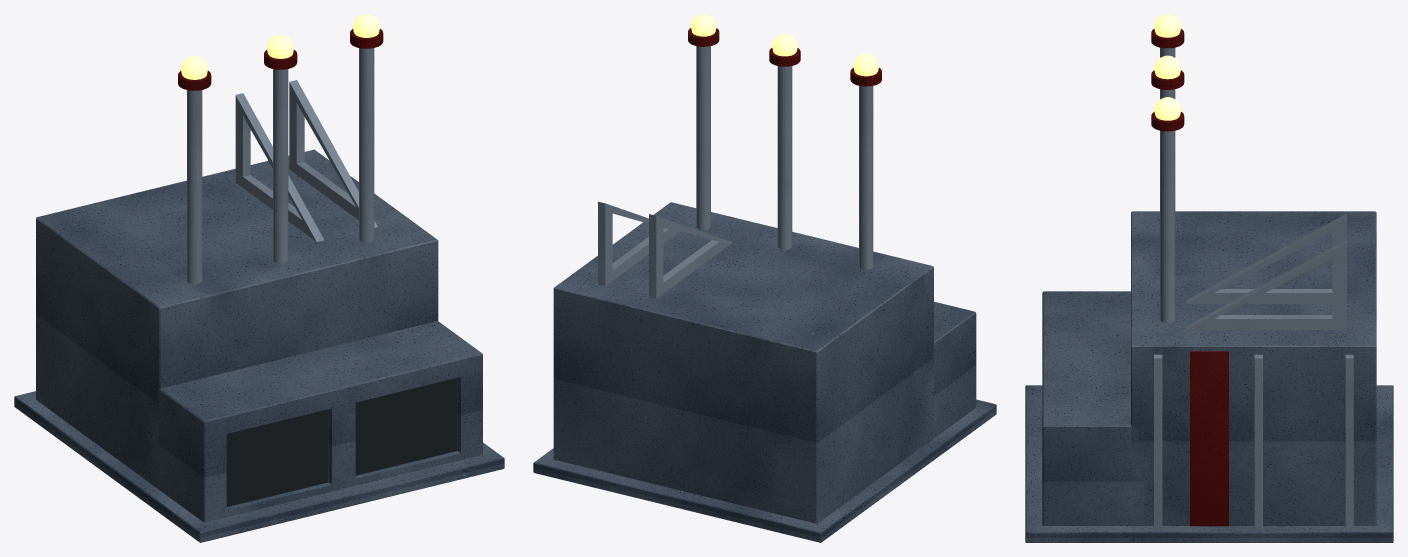
3 renders of one model, left to right at view 1: azimuth 30°, elevation 25°; view 2: azimuth 150°, elevation 25°; view 3: azimuth 270°, elevation 25°, orthographic. The views are drawn at different scales.
Visible parts, largest first — view 1: Screening Pods upper cast body, Screening Pods lower projecting front, Screening Pods eight supported steel parts, Screening Pods two blind front backings, Screening Pods grounded low foot, Screening Pods three steady opaque emitter cores, Screening Pods source red stripe and three collars; view 2: Screening Pods upper cast body, Screening Pods eight supported steel parts, Screening Pods grounded low foot, Screening Pods lower projecting front, Screening Pods three steady opaque emitter cores, Screening Pods source red stripe and three collars; view 3: Screening Pods upper cast body, Screening Pods lower projecting front, Screening Pods eight supported steel parts, Screening Pods grounded low foot, Screening Pods source red stripe and three collars, Screening Pods three steady opaque emitter cores.
Part boxes in pixels (left/top/right/bottom): Screening Pods upper cast body: left=36, top=149, right=438, bottom=489; Screening Pods lower projecting front: left=159, top=321, right=482, bottom=522; Screening Pods eight supported steel parts: left=187, top=48, right=377, bottom=284; Screening Pods two blind front backings: left=226, top=377, right=457, bottom=506; Screening Pods grounded low foot: left=14, top=391, right=504, bottom=542; Screening Pods three steady opaque emitter cores: left=181, top=14, right=379, bottom=79; Screening Pods source red stripe and three collars: left=178, top=29, right=383, bottom=90; Screening Pods upper cast body: left=553, top=202, right=933, bottom=523; Screening Pods eight supported steel parts: left=598, top=46, right=873, bottom=298; Screening Pods grounded low foot: left=533, top=399, right=996, bottom=542; Screening Pods lower projecting front: left=930, top=301, right=976, bottom=439; Screening Pods three steady opaque emitter cores: left=691, top=14, right=878, bottom=76; Screening Pods source red stripe and three collars: left=688, top=28, right=881, bottom=86; Screening Pods upper cast body: left=1131, top=211, right=1376, bottom=525; Screening Pods lower projecting front: left=1042, top=291, right=1144, bottom=525; Screening Pods eight supported steel parts: left=1153, top=47, right=1353, bottom=529; Screening Pods grounded low foot: left=1025, top=385, right=1393, bottom=542; Screening Pods source red stripe and three collars: left=1151, top=28, right=1228, bottom=526; Screening Pods three steady opaque emitter cores: left=1154, top=14, right=1181, bottom=120.
Size of the model in its own units: 1.42 by 1.85 by 1.5.
5 materials, 3 textured.
